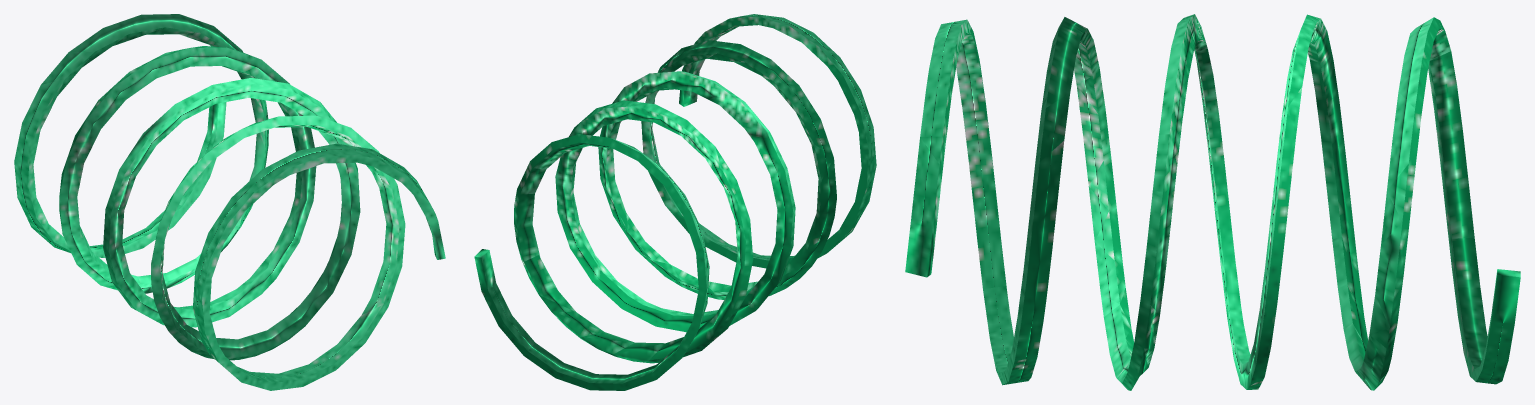
The model's file is RegenCoil.obj.
The picture shows the model from 3 angles, left to right: view 1: azimuth 30°, elevation 25°; view 2: azimuth 150°, elevation 25°; view 3: azimuth 270°, elevation 25°; orthographic projection. The views are drawn at different scales.
Visible parts, largest first — view 1: Regen Coil; view 2: Regen Coil; view 3: Regen Coil.
Part boxes in pixels (bbox=[...]): Regen Coil: bbox=[14, 14, 445, 390]; Regen Coil: bbox=[474, 14, 876, 390]; Regen Coil: bbox=[905, 14, 1520, 390].
Size of the model in its own units: 1.4 by 1.49 by 2.4.
Materials: 1 (1 with a texture image).
